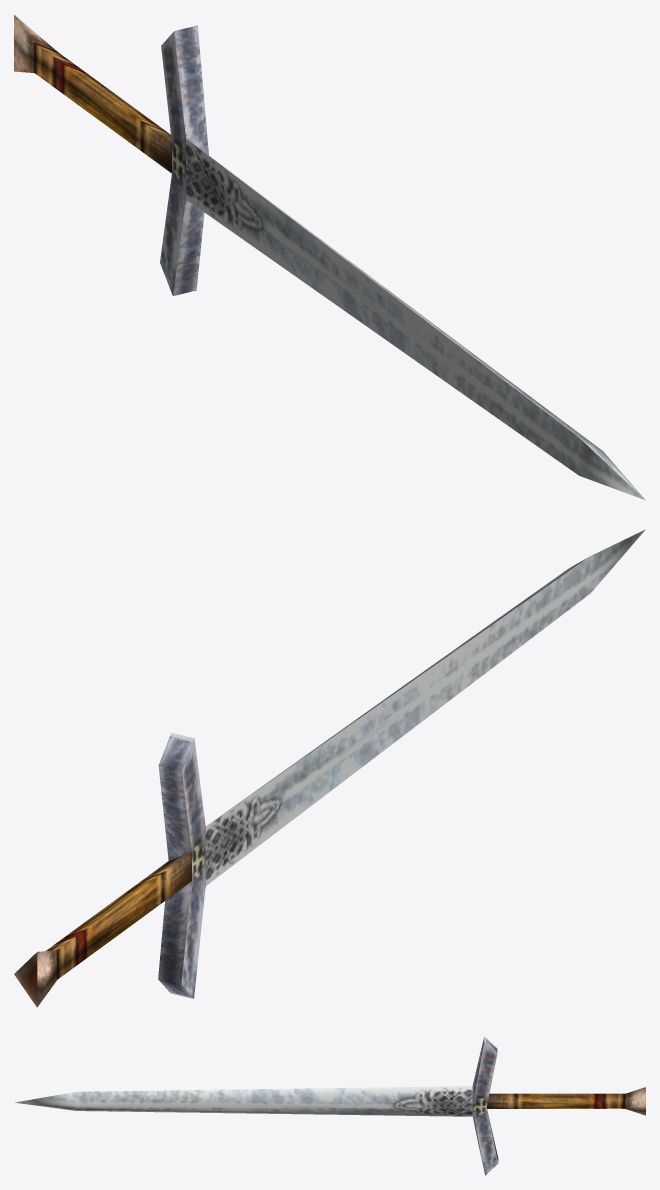
File: wp_sword12.glb
3 renders of one model, top to bottom at view 1: azimuth 30°, elevation 25°; view 2: azimuth 150°, elevation 25°; view 3: azimuth 270°, elevation 25°, orthographic. The views are drawn at different scales.
Visible parts, largest first — view 1: wp_sword12; view 2: wp_sword12; view 3: wp_sword12.
Boxes of the visible parts, bbox=[...] form: wp_sword12: bbox=[14, 15, 645, 500]; wp_sword12: bbox=[14, 529, 645, 1007]; wp_sword12: bbox=[15, 1036, 645, 1175].
Size of the model in its own units: 0.0276 by 0.2881 by 1.23.
1 material, 1 textured.
